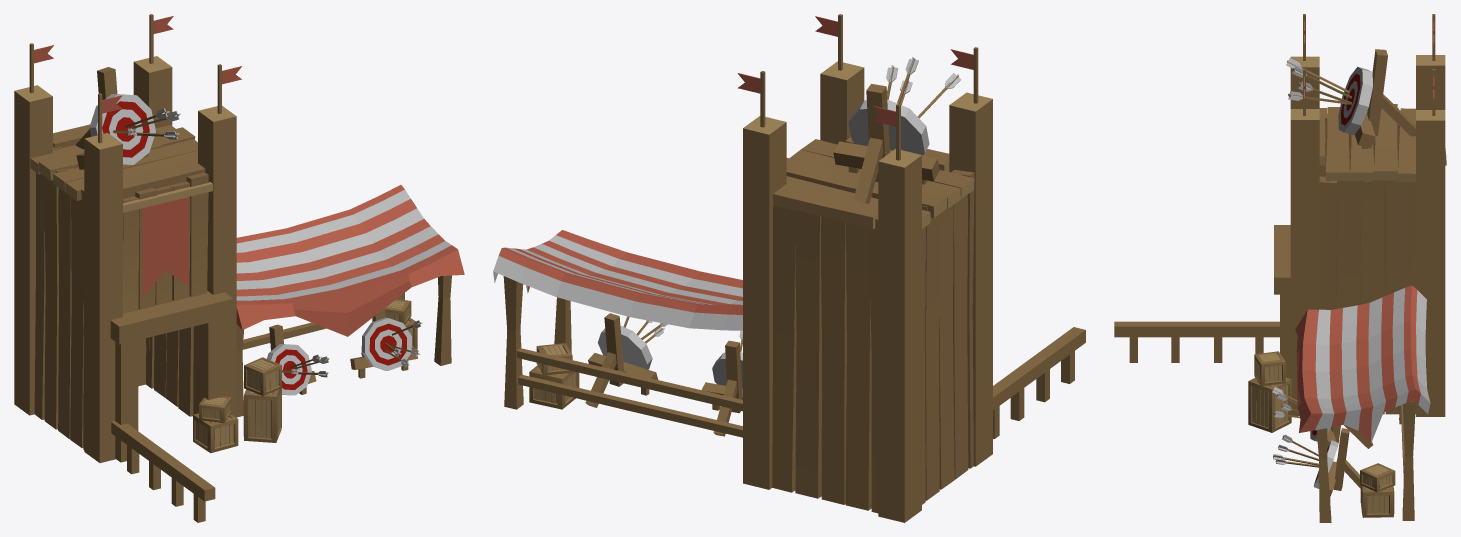
Rendered from Archery_FirstAge_Level1.glb.
3 renders of one model, left to right at view 1: azimuth 30°, elevation 25°; view 2: azimuth 150°, elevation 25°; view 3: azimuth 270°, elevation 25°, orthographic. The views are drawn at different scales.
Visible parts, largest first — view 1: Archery_FirstAge_Level1; view 2: Archery_FirstAge_Level1; view 3: Archery_FirstAge_Level1.
Part boxes in pixels (bbox=[...]): Archery_FirstAge_Level1: bbox=[14, 14, 464, 522]; Archery_FirstAge_Level1: bbox=[493, 14, 1085, 522]; Archery_FirstAge_Level1: bbox=[1114, 14, 1446, 522].
Size of the model in its own units: 1.23 by 1.14 by 1.
